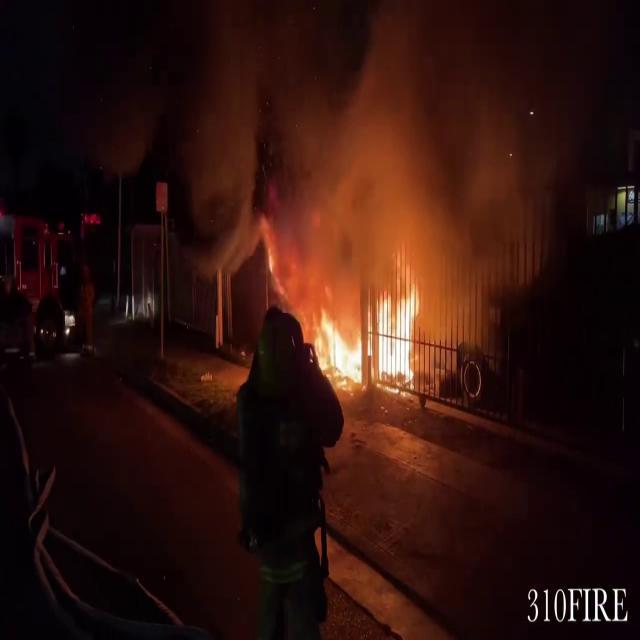Fire: (310, 256, 430, 390)
Smoke: (180, 2, 578, 282)
